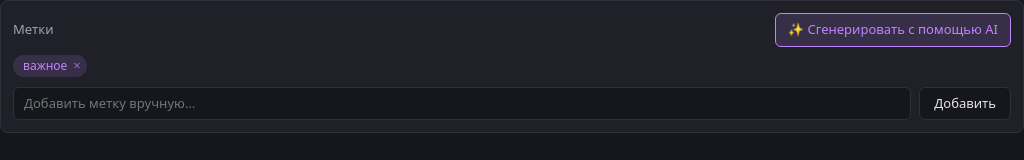
it: TagEditor › removes a tag when its remove button is clicked
What coordinates should you click on to do the following:
click the button named "Удалить метку важное"
I would click on:
 (77, 66)
Its box is [71, 59, 83, 72].
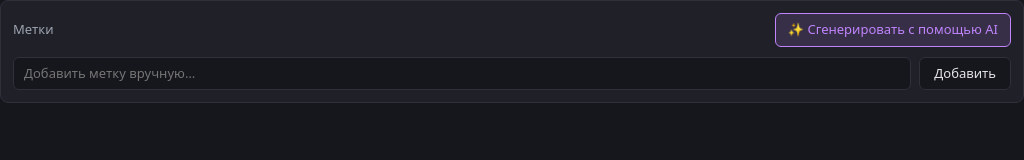
Now the list item "важное" is gone
